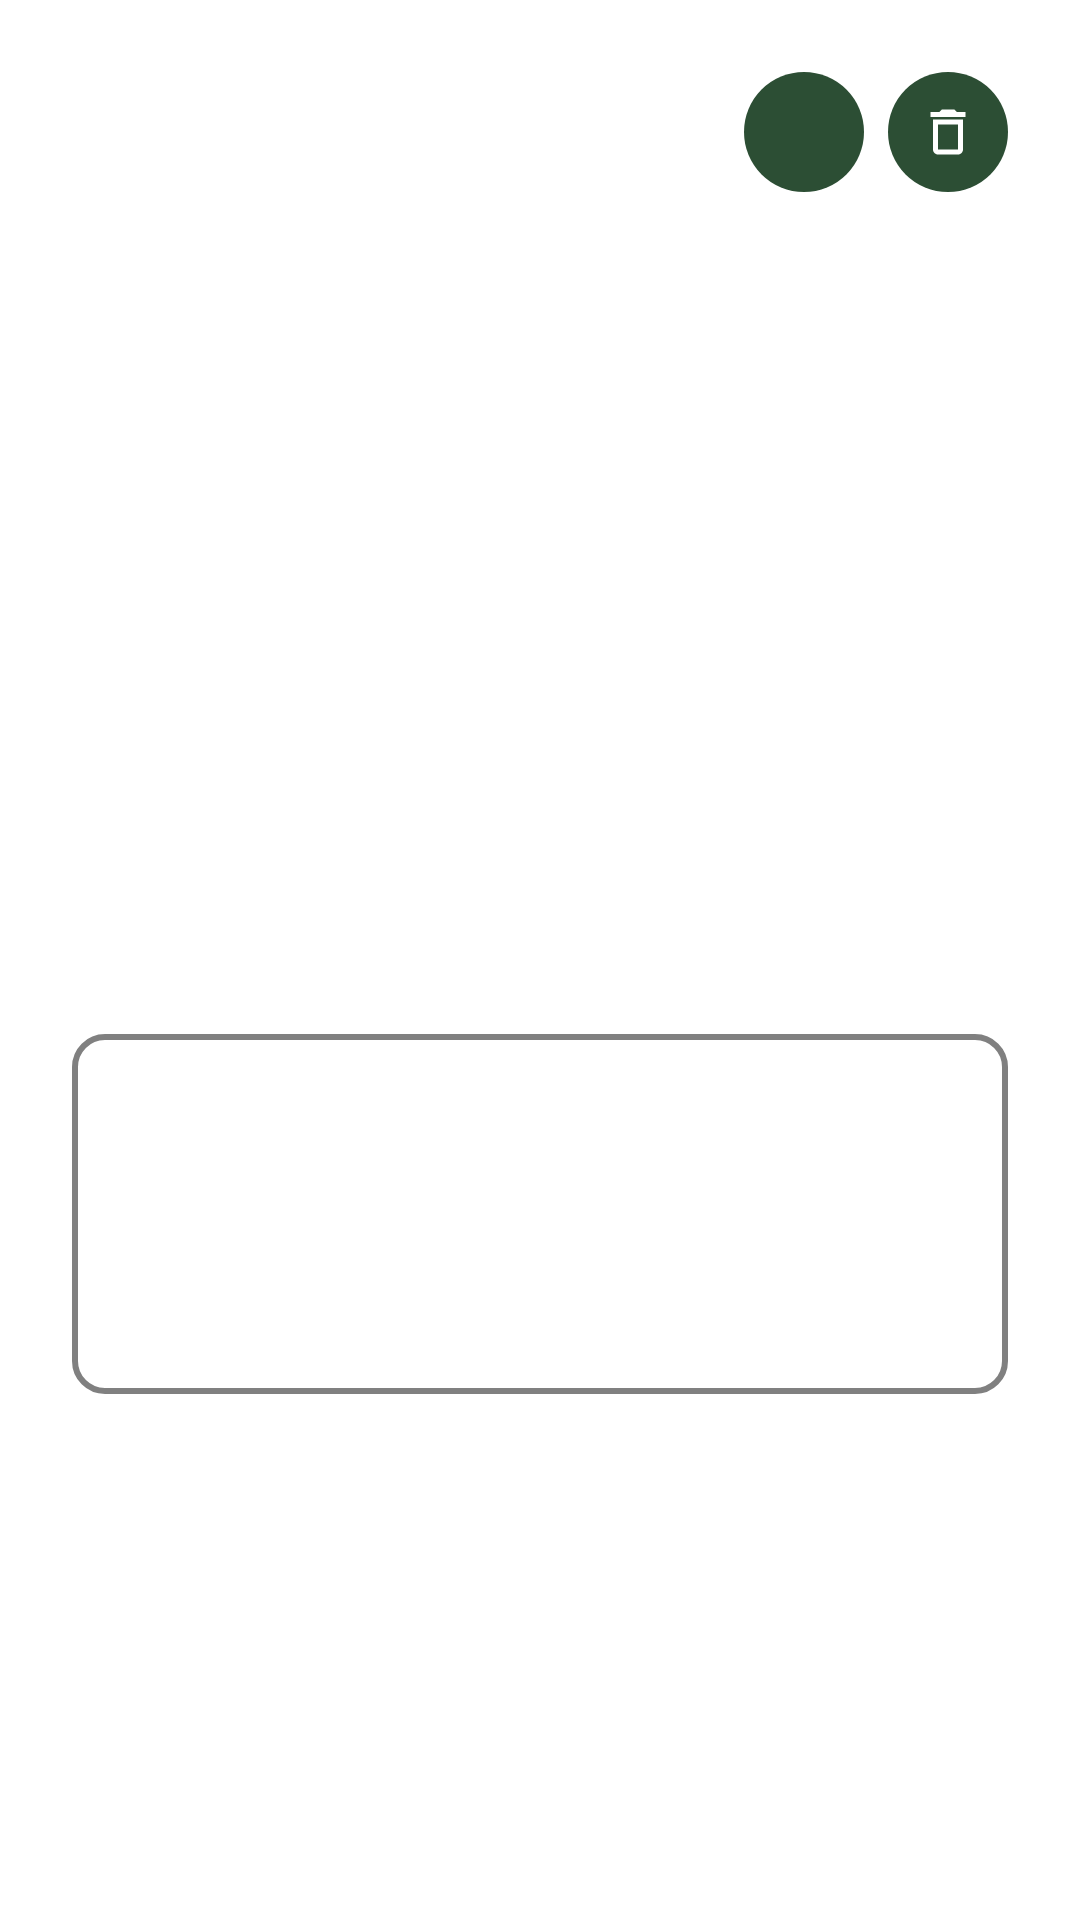

Where icons sit on this 1080px×1920px app screen, as bbox(x1, y1, x2, y2):
delete: bbox(888, 72, 1008, 192)
